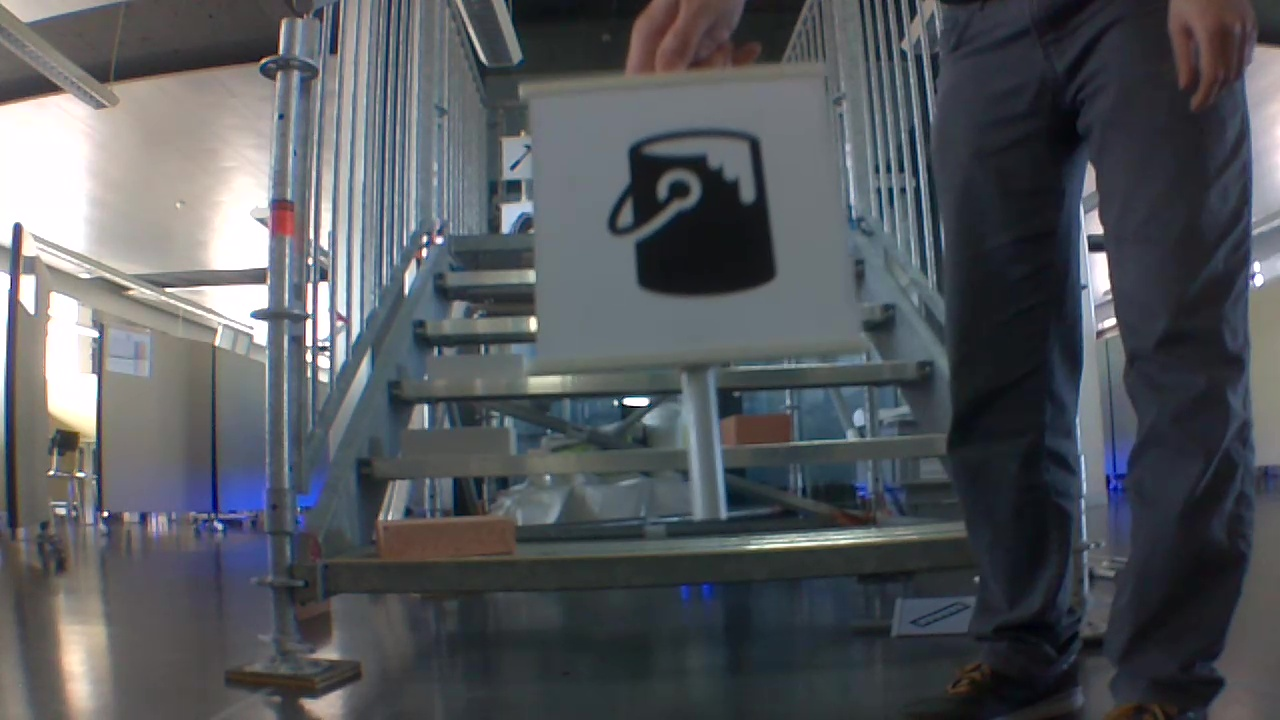brick: (378, 514, 514, 557), (403, 428, 513, 459), (427, 354, 530, 379), (719, 416, 791, 442)
bucket: (593, 121, 784, 307)
hammer: (505, 141, 533, 172)
taco: (505, 208, 533, 232)
